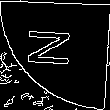N_E: (28, 34, 82, 76)
